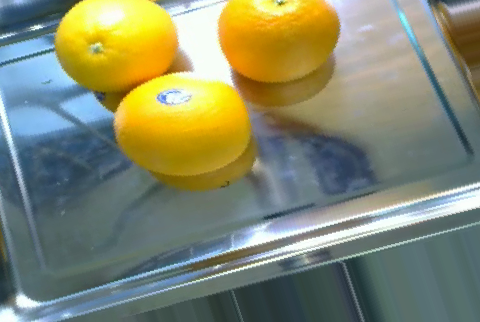Orange: (114, 70, 250, 177), (53, 0, 178, 92), (217, 0, 341, 82)
